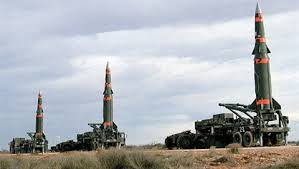ten_lua: (253, 2, 282, 117), (100, 60, 114, 130), (31, 90, 50, 137)
